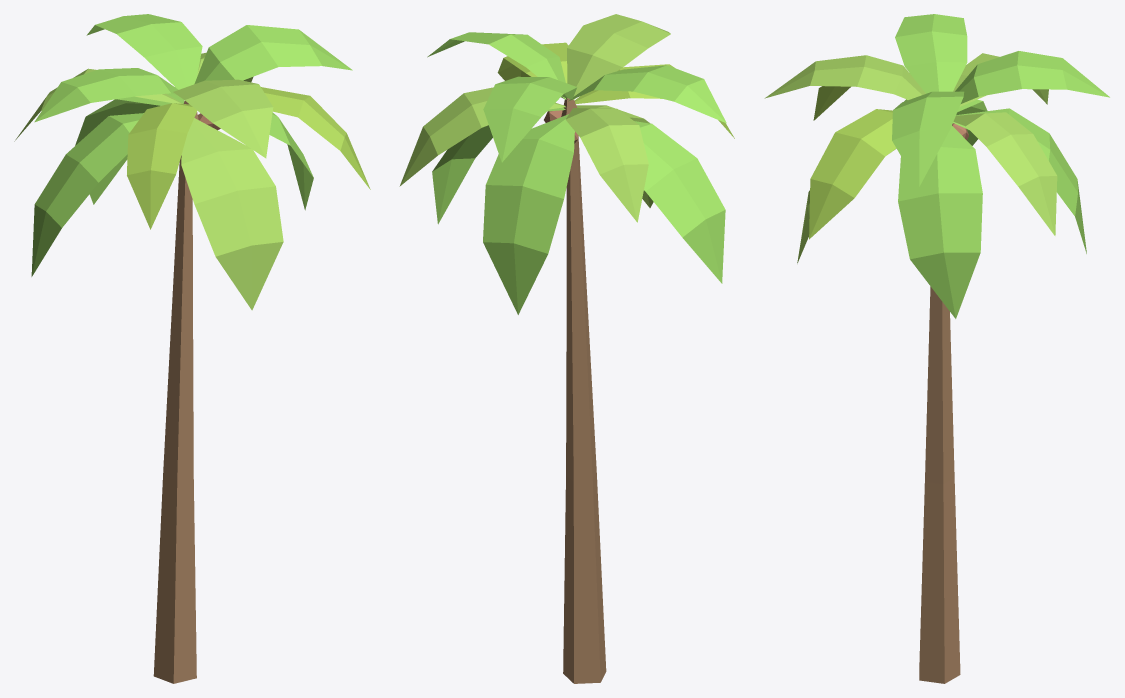
Rendered from Palm_Tree_Coconut_l_01_LOD.fbx.
The picture shows the model from 3 angles, left to right: view 1: azimuth 30°, elevation 25°; view 2: azimuth 150°, elevation 25°; view 3: azimuth 270°, elevation 25°; orthographic projection.
Parts seen in each view (by area): view 1: Palm_Tree_Coconut_l_01_LOD0; view 2: Palm_Tree_Coconut_l_01_LOD0; view 3: Palm_Tree_Coconut_l_01_LOD0.
Boxes of the visible parts, <box> form: Palm_Tree_Coconut_l_01_LOD0: <box>14,14,370,683</box>; Palm_Tree_Coconut_l_01_LOD0: <box>399,14,734,683</box>; Palm_Tree_Coconut_l_01_LOD0: <box>764,14,1109,683</box>.
Size of what is drawn, in the model's own units: 430 by 823 by 417.
